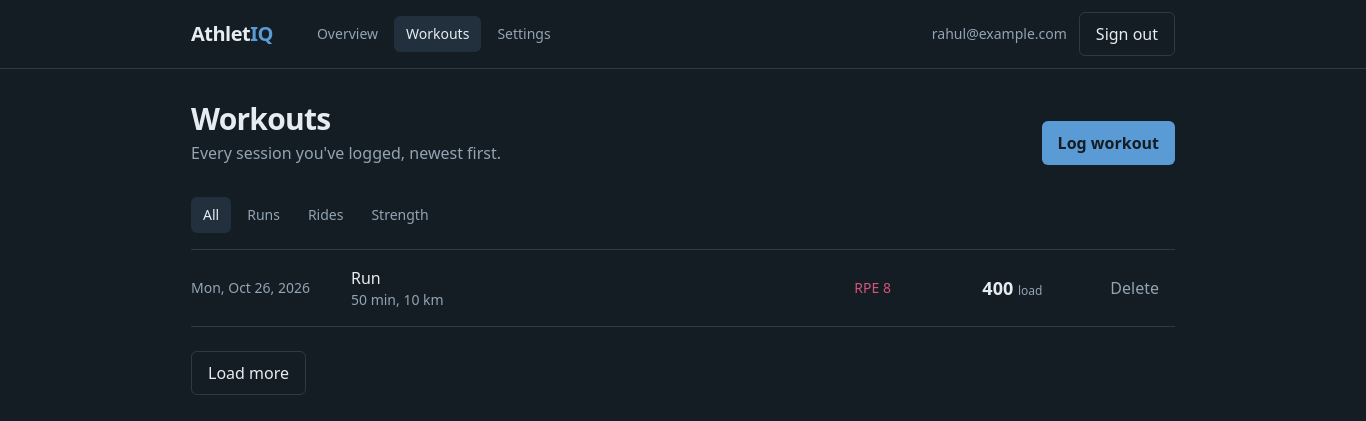
Test case: WorkoutsPage › loads more with the cursor and appends
Expected: the list named "Workout history" is shown, left=191, top=249, right=1175, bottom=327
Click the button "Load more" at (248, 373), box left=191, top=351, right=306, bottom=395
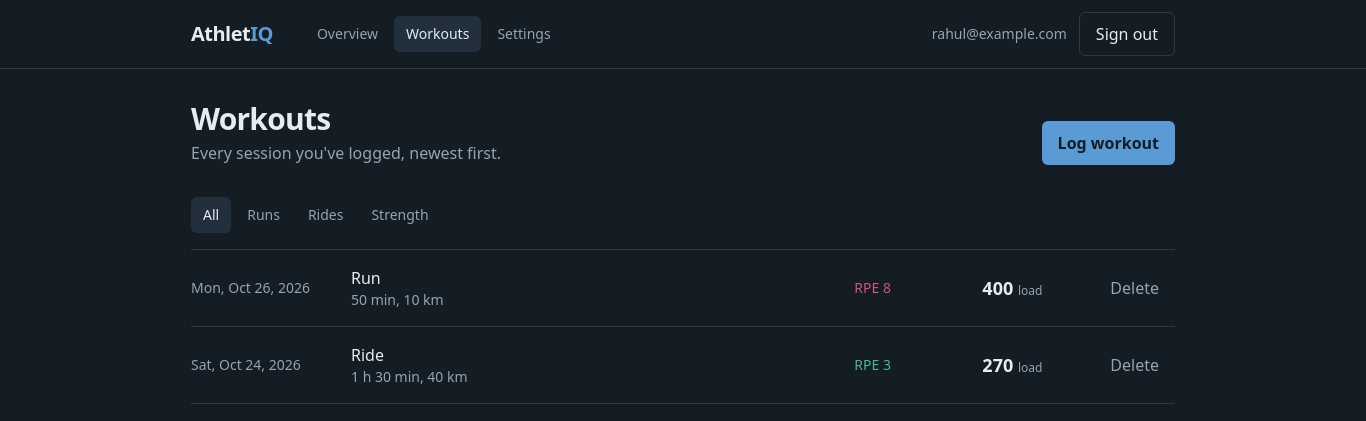
Expected: the text "Sat, Oct 24, 2026" is shown, left=191, top=355, right=301, bottom=374
Expected: the number of list items is 2, left=191, top=250, right=1175, bottom=327; left=191, top=327, right=1175, bottom=404
Expected: the button "Load more" is gone
